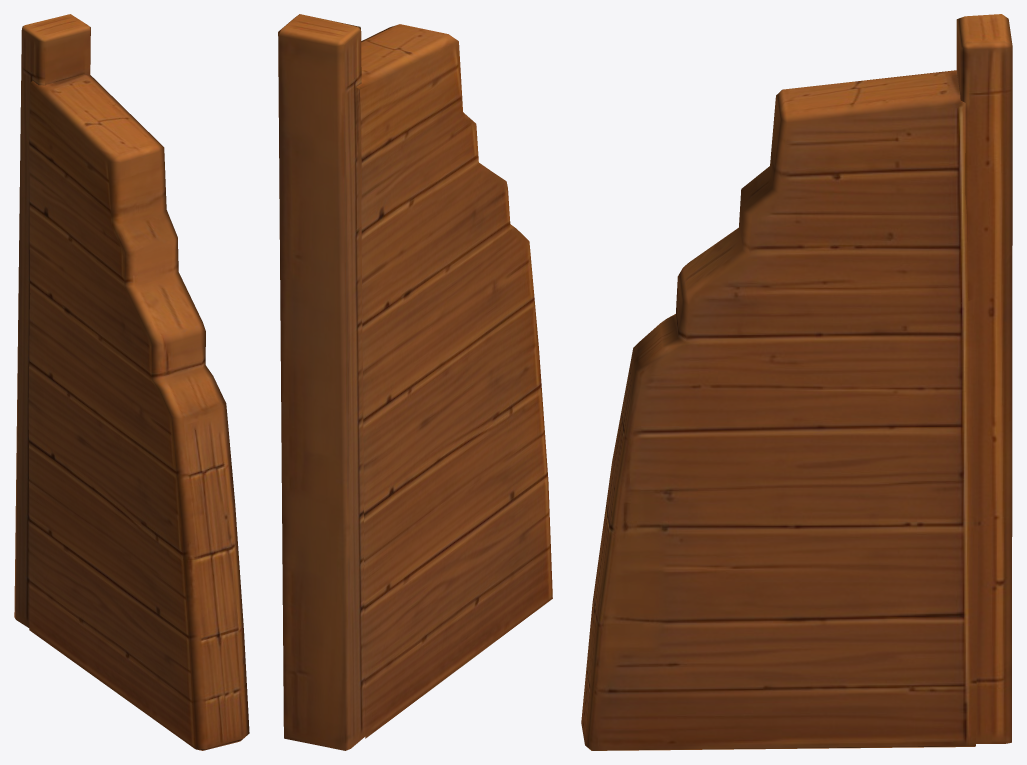
The model's file is rudder.glb.
3 renders of one model, left to right at view 1: azimuth 30°, elevation 25°; view 2: azimuth 150°, elevation 25°; view 3: azimuth 270°, elevation 25°, orthographic. The views are drawn at different scales.
Parts seen in each view (by area): view 1: blade; view 2: blade; view 3: blade.
Part boxes in pixels (x1,y1,x2,y2): blade: (14, 14, 249, 750); blade: (278, 14, 552, 750); blade: (581, 14, 1012, 750).
Bounding box in the file's own units: 0.2136 × 2 × 1.1.
1 material, 1 textured.
